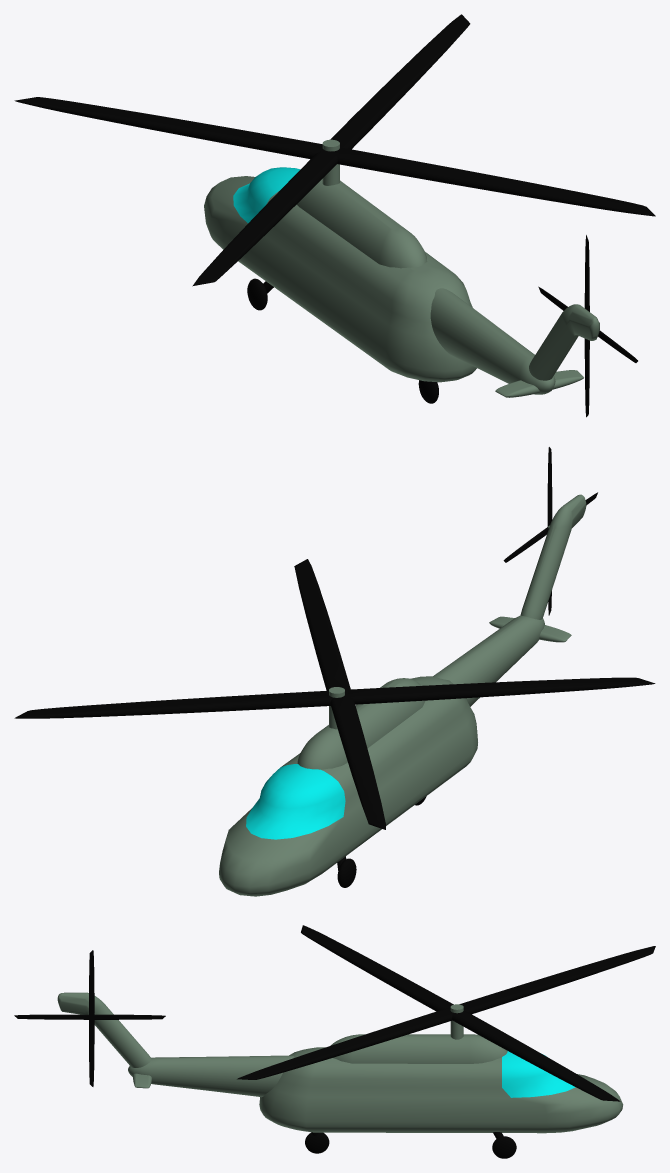
The model's file is Helicopter.fbx.
The picture shows the model from 3 angles, top to bottom: view 1: azimuth 30°, elevation 25°; view 2: azimuth 150°, elevation 25°; view 3: azimuth 270°, elevation 25°; orthographic projection. The views are drawn at different scales.
Visible parts, largest first — view 1: pSphere1, pSphere7, pSphere6, pSphere3, pSphere2, pSphere4, pSphere5, pSphere8; view 2: pSphere1, pSphere6, pSphere7, pSphere3, pSphere2, pSphere4; view 3: pSphere1, pSphere7, pSphere6, pSphere3, pSphere2, pSphere4, pSphere9, pSphere8, pSphere10, pSphere12.
Part boxes in pixels (box(x1,y1,x2,y2)): pSphere1: box(204, 167, 476, 382); pSphere7: box(14, 97, 655, 216); pSphere6: box(192, 14, 470, 286); pSphere3: box(430, 288, 555, 394); pSphere2: box(297, 179, 427, 268); pSphere4: box(529, 304, 599, 380); pSphere5: box(495, 370, 583, 397); pSphere8: box(584, 235, 589, 417); pSphere1: box(219, 676, 477, 896); pSphere6: box(14, 677, 655, 718); pSphere7: box(294, 559, 385, 829); pSphere3: box(433, 615, 544, 706); pSphere2: box(297, 678, 425, 769); pSphere4: box(520, 494, 586, 619); pSphere1: box(259, 1047, 623, 1133); pSphere7: box(237, 946, 655, 1079); pSphere6: box(301, 925, 620, 1101); pSphere3: box(128, 1055, 293, 1097); pSphere2: box(330, 1034, 507, 1063); pSphere4: box(57, 992, 151, 1067); pSphere9: box(14, 1014, 165, 1019); pSphere8: box(89, 950, 94, 1086); pSphere10: box(492, 1136, 516, 1158); pSphere12: box(305, 1132, 329, 1153).
Bounding box in the file's own units: 6.21 × 3.39 × 9.54.
